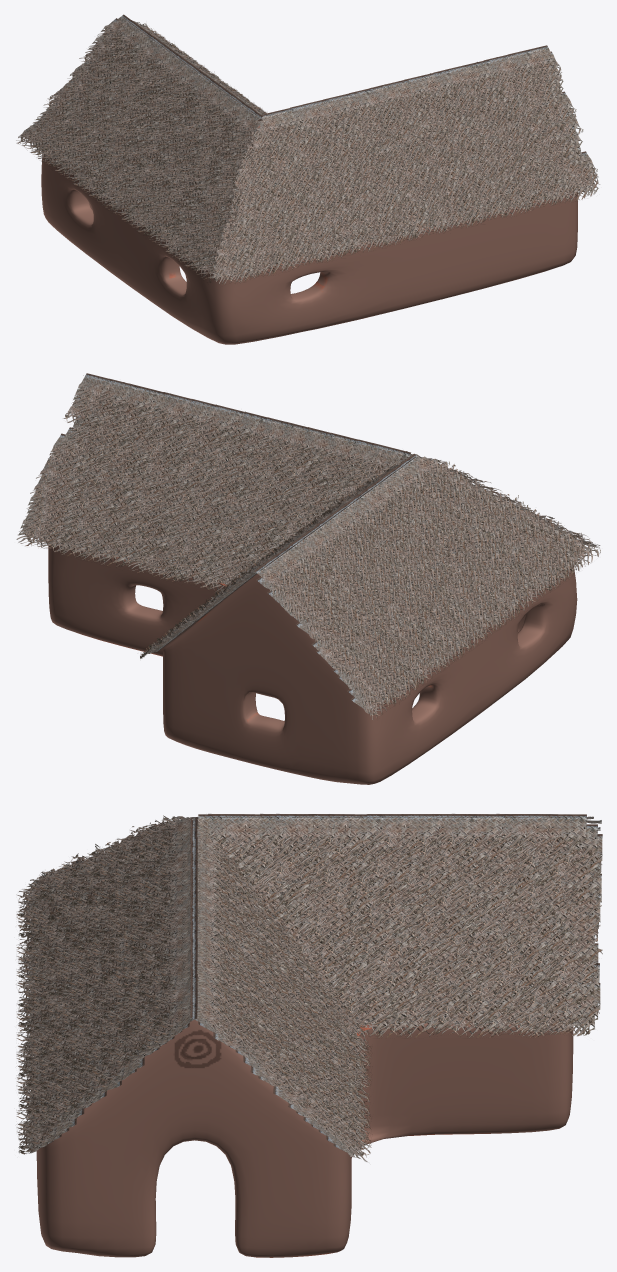
Rendered from houseVariation.glb.
3 renders of one model, top to bottom at view 1: azimuth 30°, elevation 25°; view 2: azimuth 150°, elevation 25°; view 3: azimuth 270°, elevation 25°, orthographic. The views are drawn at different scales.
Parts seen in each view (by area): view 1: bool.001_Material.001_0, bool_Material.002_0, bool.003_Material.001_0, bool.002_Material.001_0; view 2: bool_Material.002_0, bool.004_Material.001_0, bool.003_Material.001_0, bool.002_Material.001_0, bool.001_Material.001_0; view 3: bool.002_Material.001_0, bool_Material.002_0, bool.001_Material.001_0, bool.004_Material.001_0, bool.003_Material.001_0.
Part boxes in pixels (x1,y1,x2,y2): bool.001_Material.001_0: (212, 45, 599, 284); bool_Material.002_0: (41, 125, 577, 344); bool.003_Material.001_0: (16, 14, 262, 282); bool.002_Material.001_0: (122, 17, 267, 121); bool_Material.002_0: (48, 532, 577, 784); bool.004_Material.001_0: (16, 373, 410, 592); bool.003_Material.001_0: (254, 453, 600, 720); bool.002_Material.001_0: (140, 457, 415, 658); bool.001_Material.001_0: (83, 375, 600, 548); bool.002_Material.001_0: (198, 813, 602, 1038); bool_Material.002_0: (36, 978, 573, 1257); bool.001_Material.001_0: (16, 816, 197, 1154); bool.004_Material.001_0: (190, 819, 371, 1161); bool.003_Material.001_0: (41, 815, 601, 878).
Size of the model in its own units: 6.4 by 2.74 by 5.68.
3 materials, 2 textured.
